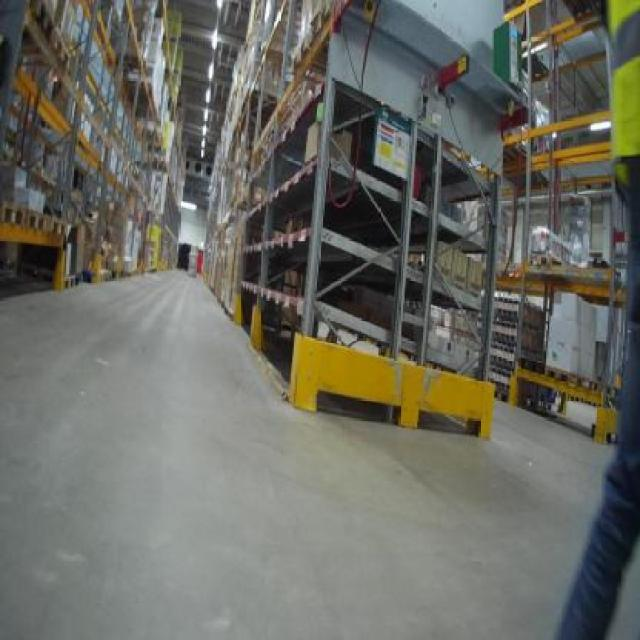ground: (0, 267, 617, 638), (595, 534, 638, 638)
pallet: (0, 197, 72, 238), (540, 359, 610, 397)
